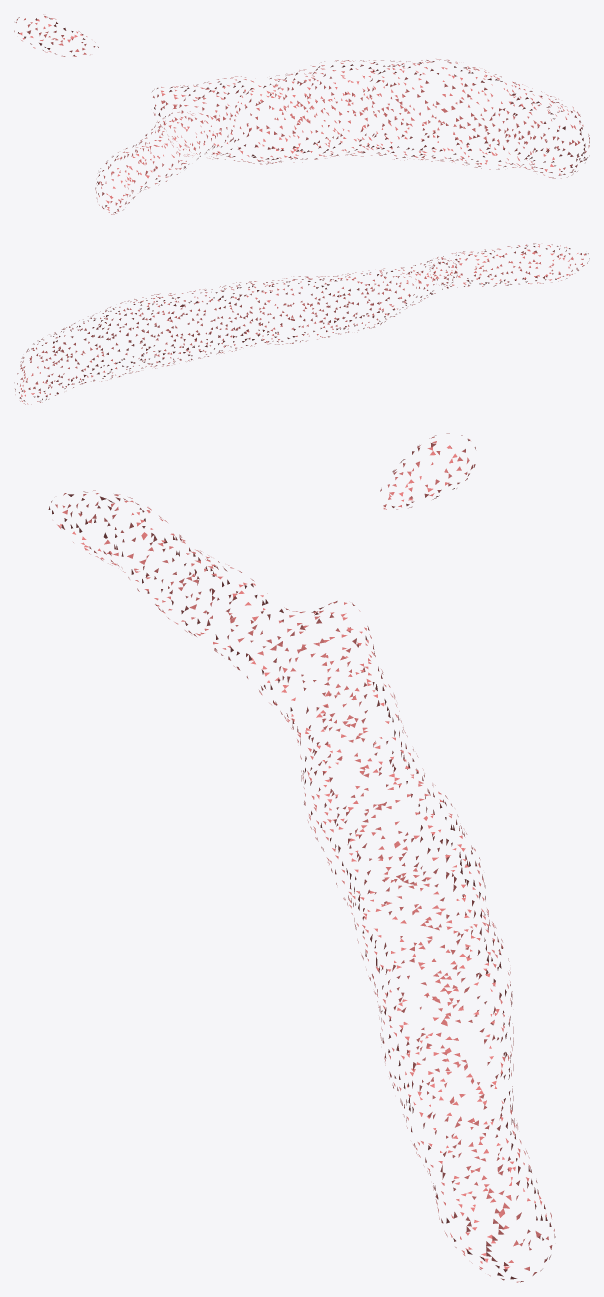
File: morph_000.glb
The picture shows the model from 3 angles, top to bottom: view 1: azimuth 30°, elevation 25°; view 2: azimuth 150°, elevation 25°; view 3: azimuth 270°, elevation 25°; orthographic projection. The views are drawn at different scales.
Size of the model in its own units: 122 by 57.72 by 58.44.
